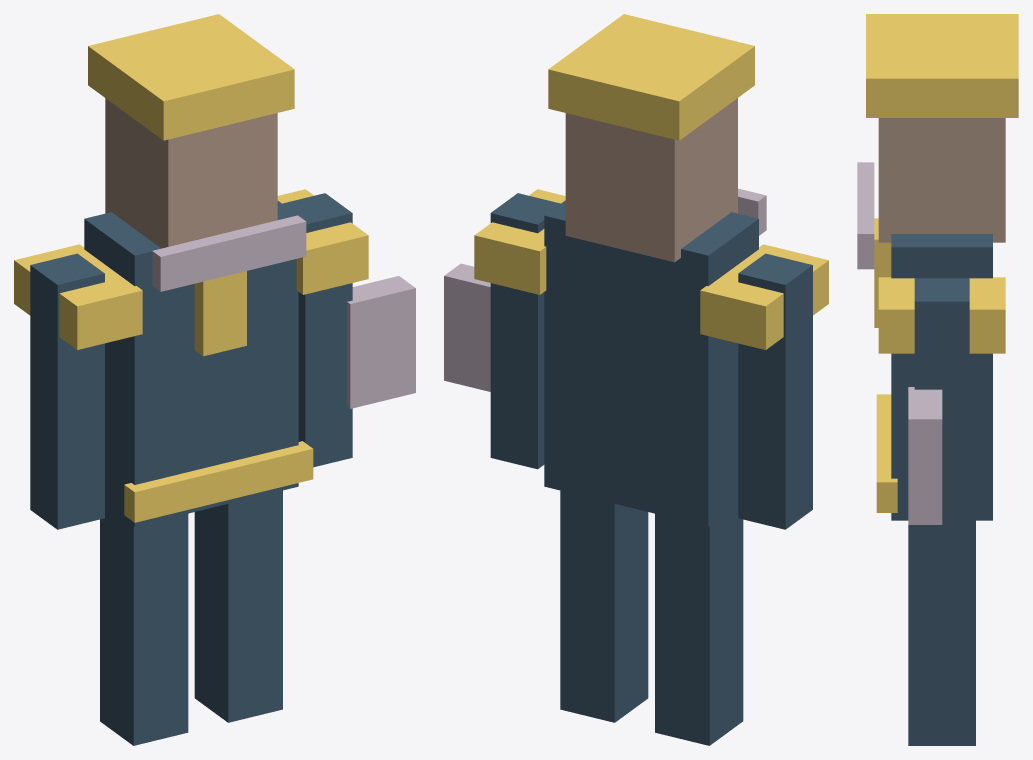
File: 15_kiva_starfall_broker_from_cold.glb
3 renders of one model, left to right at view 1: azimuth 30°, elevation 25°; view 2: azimuth 150°, elevation 25°; view 3: azimuth 270°, elevation 25°, orthographic.
Parts seen in each view (by area): view 1: Kiva Starfall, Broker from Cold; view 2: Kiva Starfall, Broker from Cold; view 3: Kiva Starfall, Broker from Cold.
Part boxes in pixels (x1,y1,x2,y2): Kiva Starfall, Broker from Cold: (14,14,415,745); Kiva Starfall, Broker from Cold: (444,14,828,745); Kiva Starfall, Broker from Cold: (857,14,1018,745).
Size of the model in its own units: 0.9296 by 1.65 by 0.3623.
